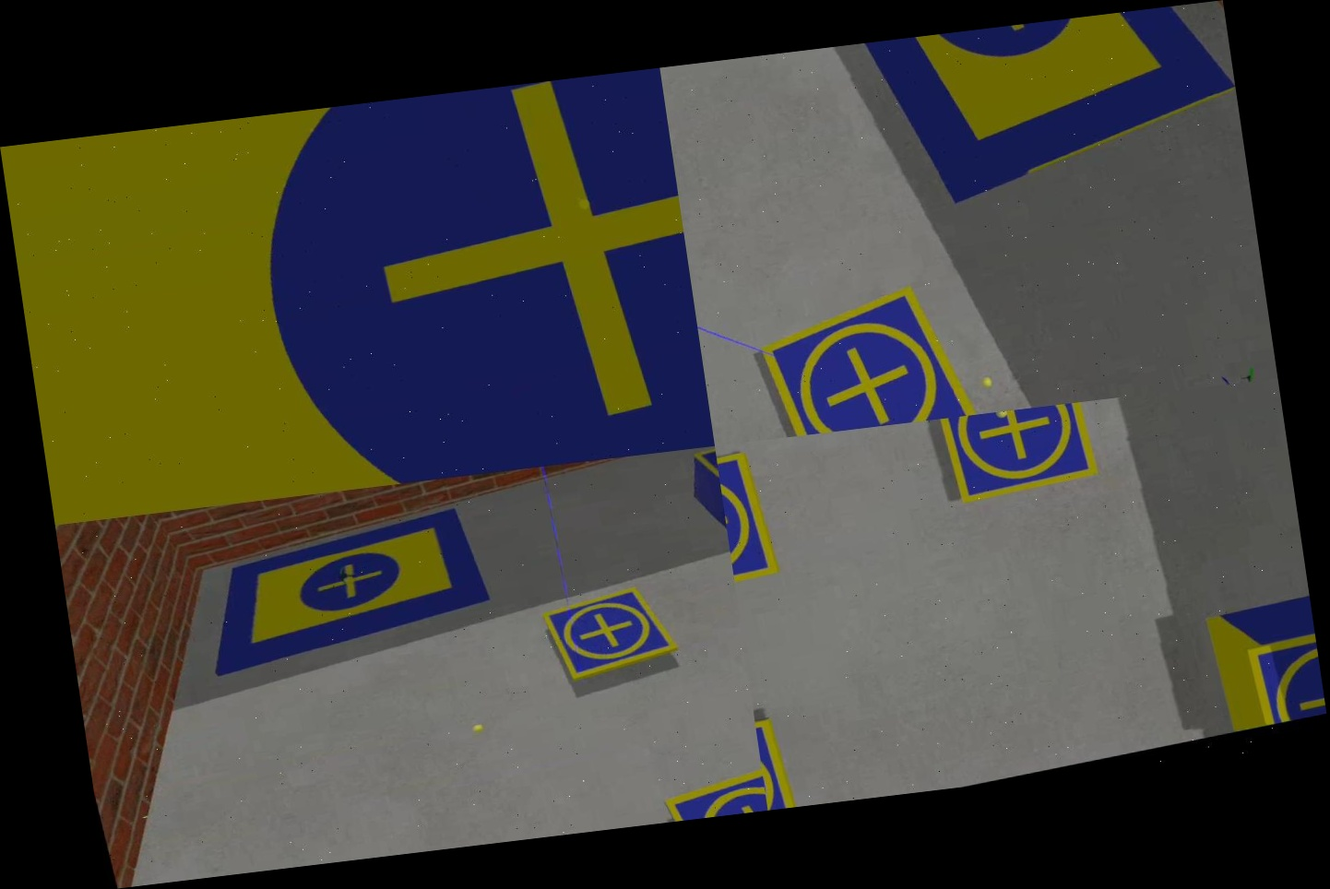large_base: (0, 67, 715, 525), (809, 0, 1248, 226), (187, 506, 503, 677)
small_base: (746, 277, 984, 440), (933, 401, 1102, 507), (539, 580, 683, 684), (716, 448, 782, 594), (1243, 627, 1326, 728)
